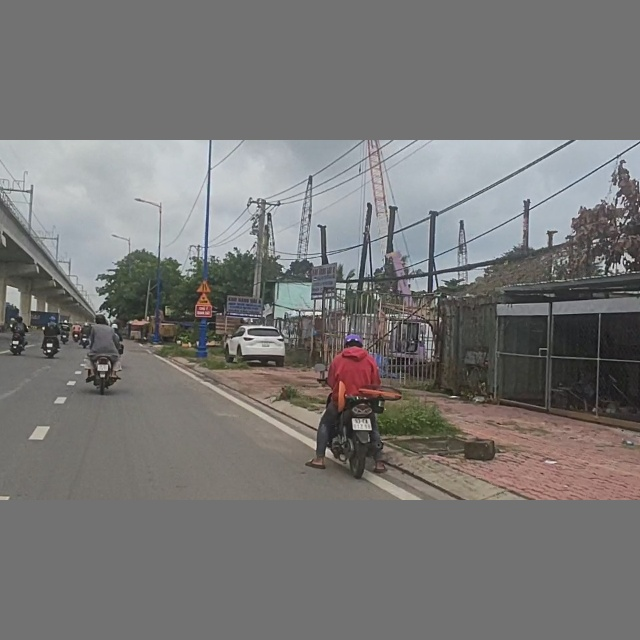W.203c: (196, 279, 211, 292)
W.245a: (196, 293, 213, 305)
